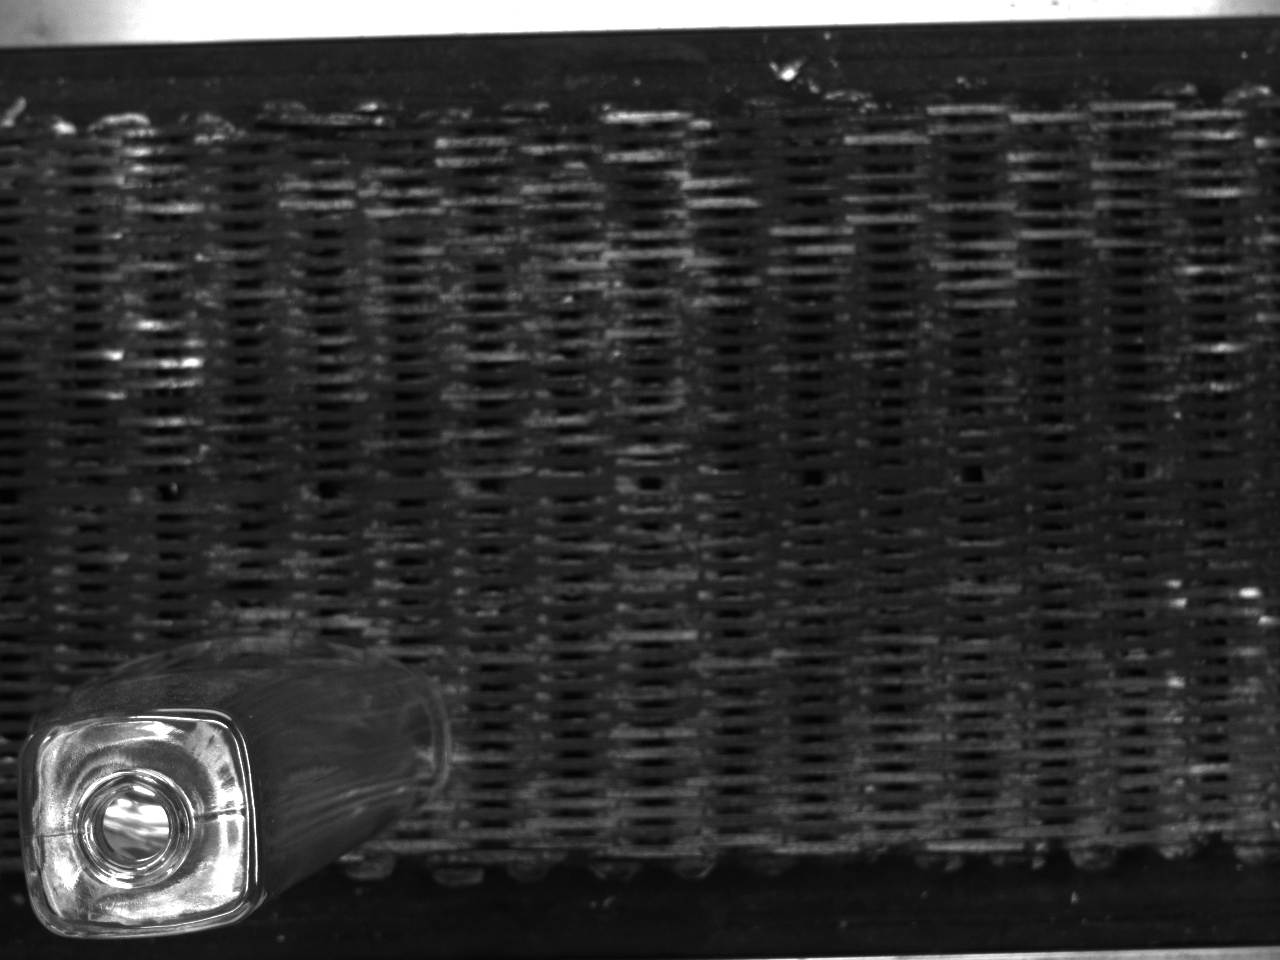bottleneck: (76, 769, 196, 886)
